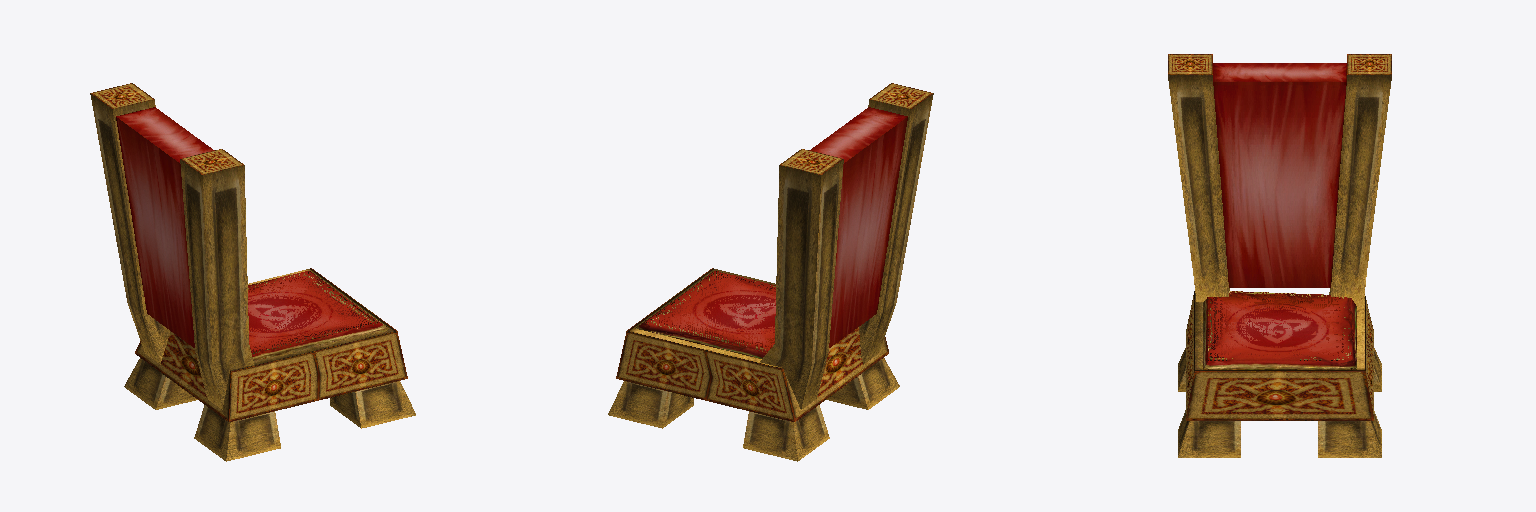
3 views of the same model, side by side, from view 1: azimuth 30°, elevation 25°; view 2: azimuth 150°, elevation 25°; view 3: azimuth 270°, elevation 25° (orthographic).
Parts seen in each view (by area): view 1: dwarvenhighendchair; view 2: dwarvenhighendchair; view 3: dwarvenhighendchair.
Part boxes in pixels (x1,y1,x2,y2): dwarvenhighendchair: (90, 83, 415, 461); dwarvenhighendchair: (608, 83, 933, 461); dwarvenhighendchair: (1168, 54, 1391, 457).
Bounding box in the file's own units: 1.32 × 1.71 × 1.17.
1 materials, 1 textured.